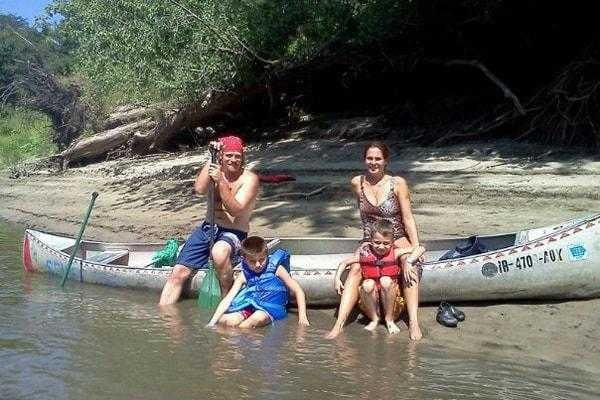kayak: (16, 215, 596, 333), (417, 209, 599, 304), (22, 227, 190, 294)
